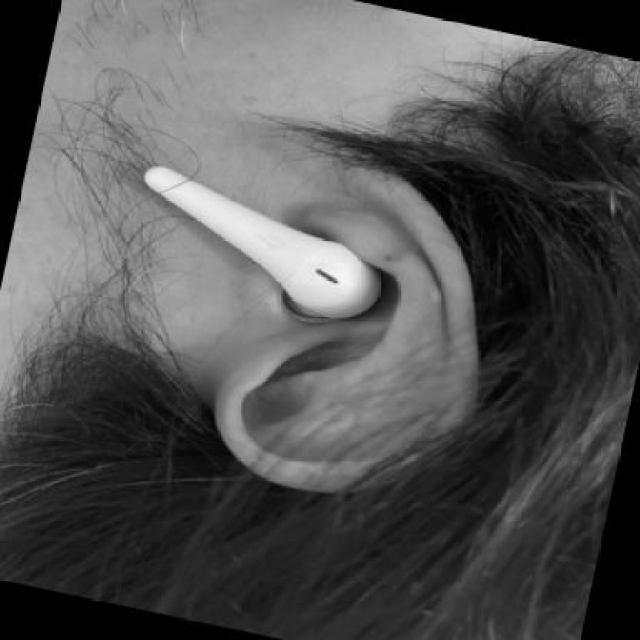earphone: (97, 132, 432, 354)
